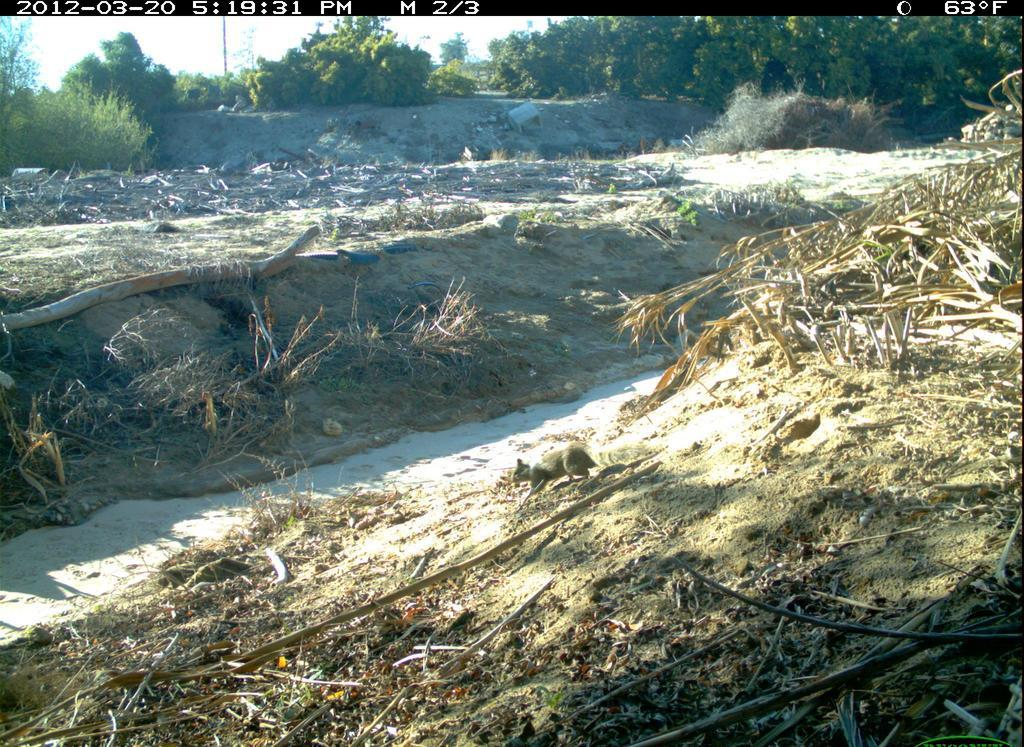squirrel: (500, 436, 621, 519)
